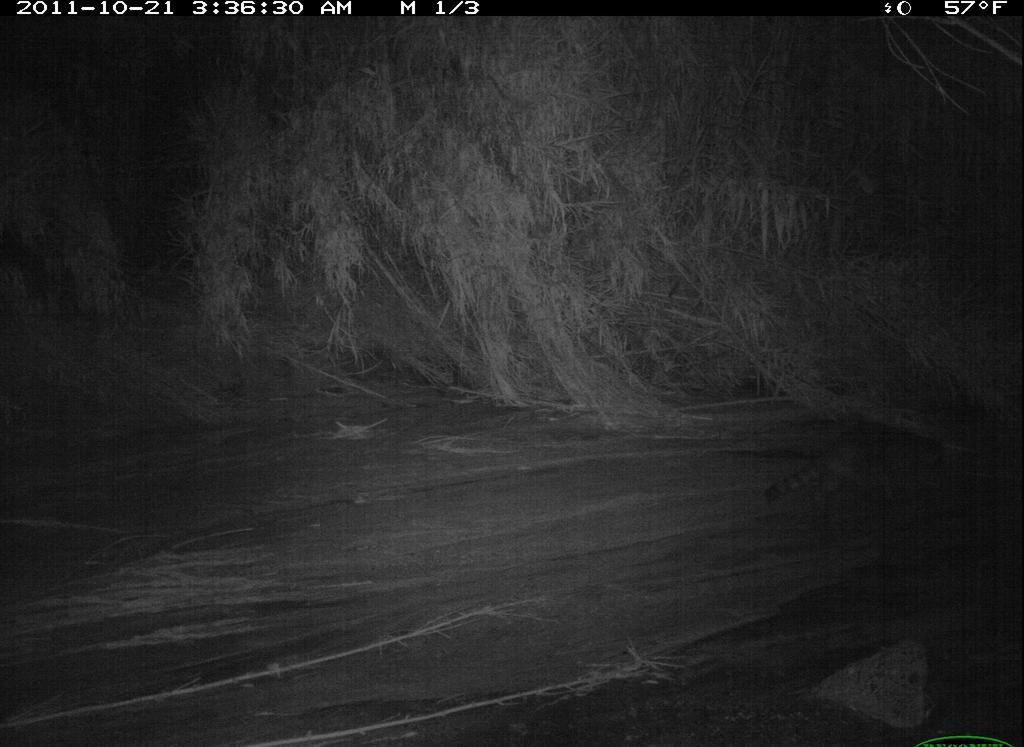raccoon: (757, 414, 961, 520)
